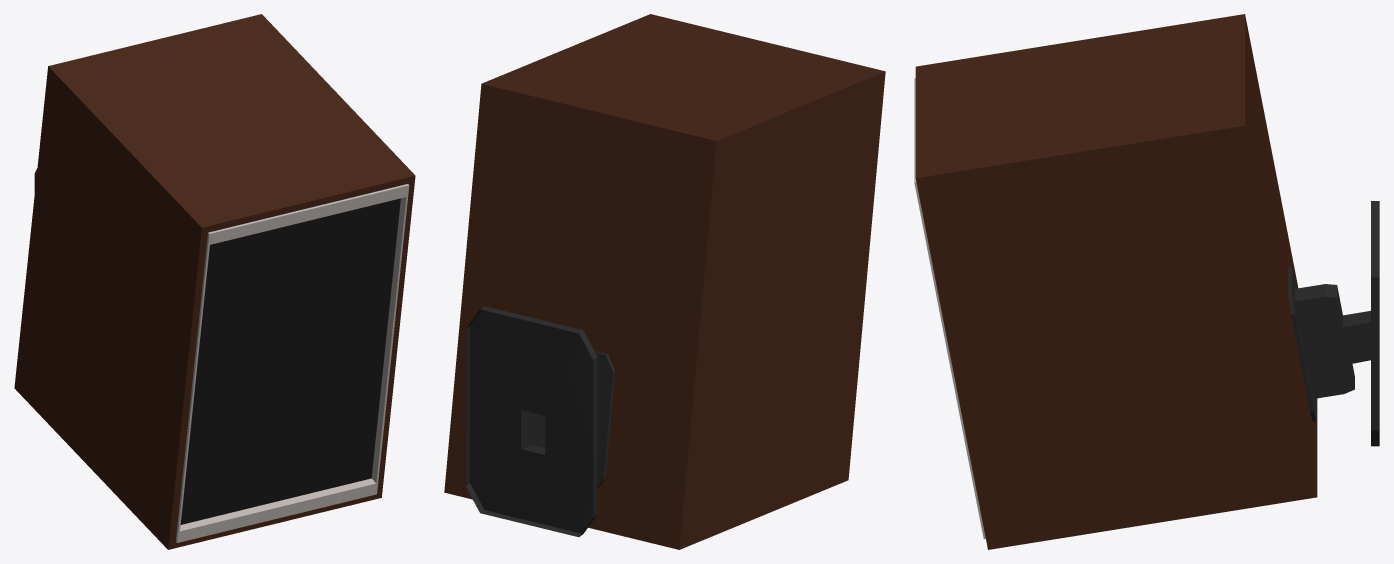
The model's file is Speakers.glb.
3 views of the same model, side by side, from view 1: azimuth 30°, elevation 25°; view 2: azimuth 150°, elevation 25°; view 3: azimuth 270°, elevation 25° (orthographic). The views are drawn at different scales.
Visible parts, largest first — view 1: Haut parleur; view 2: Haut parleur, support mural; view 3: Haut parleur, support mural.
Boxes of the visible parts, <box> form: Haut parleur: <box>14,14,415,549</box>; Haut parleur: <box>444,14,885,549</box>; support mural: <box>465,306,615,537</box>; Haut parleur: <box>914,14,1317,549</box>; support mural: <box>1288,201,1379,446</box>.
Bounding box in the file's own units: 0.2386 × 0.4224 × 0.4199.
